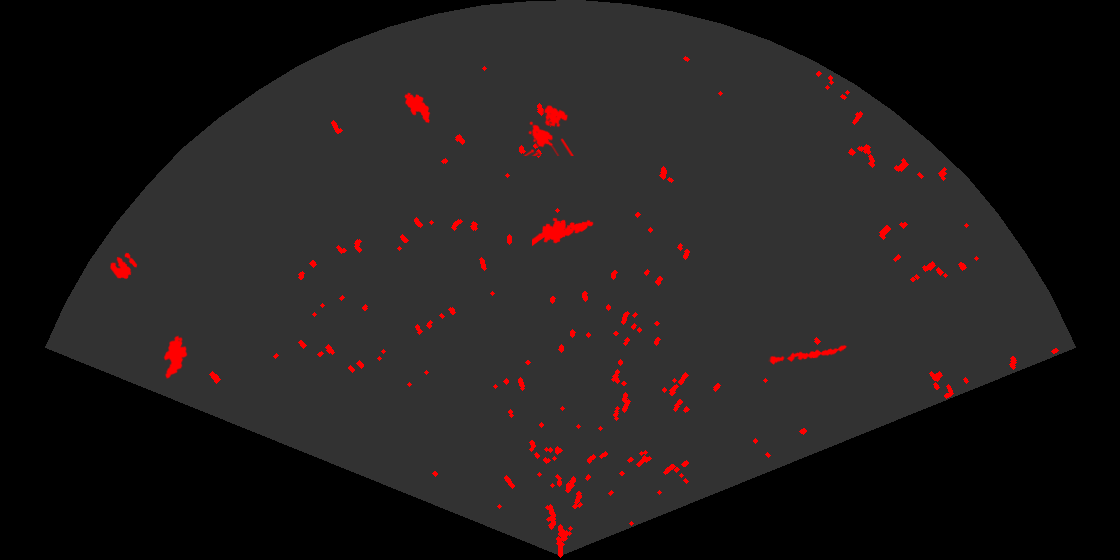AUV: (162, 334, 189, 380), (403, 91, 432, 125)
ball: (109, 251, 139, 281)
cage: (522, 103, 575, 156)
chain: (768, 344, 849, 366)
frogman: (532, 216, 595, 248)
